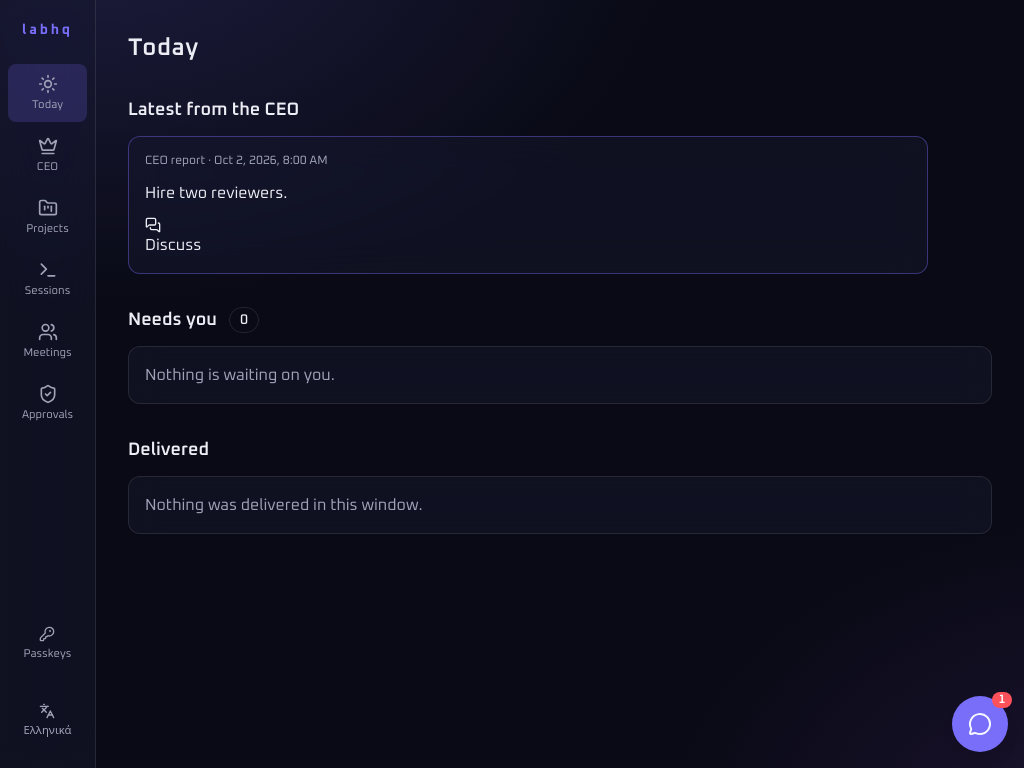
Test: Call Center widget › shows a badge for the CEO's offer of a room
Check: the text with test id "callcenter-badge" reads "1", box [998, 694, 1005, 706]
Step 1. Click the button with test id "callcenter-launcher" → coordinates (980, 724), box [952, 696, 1008, 752]
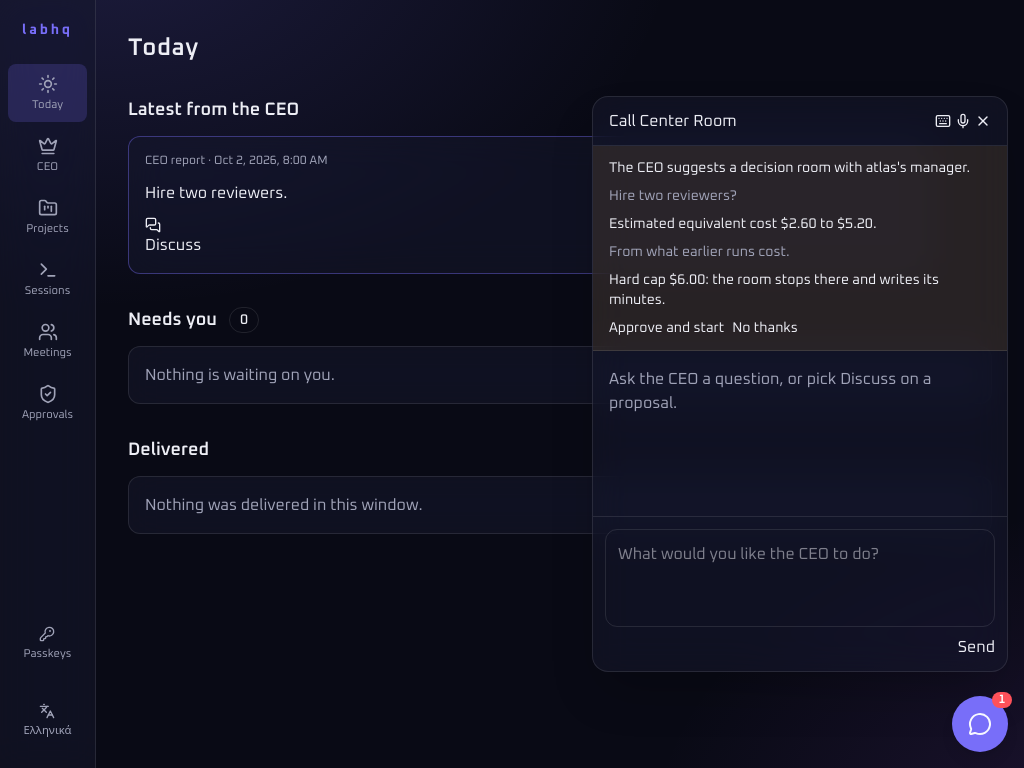
Check: the text with test id "room-estimate" shows "equivalent cost", box [609, 217, 877, 231]
Check: the text with test id "room-estimate" shows "$2.60", box [609, 217, 877, 231]
Check: the text with test id "room-estimate" shows "$5.20", box [609, 217, 877, 231]
